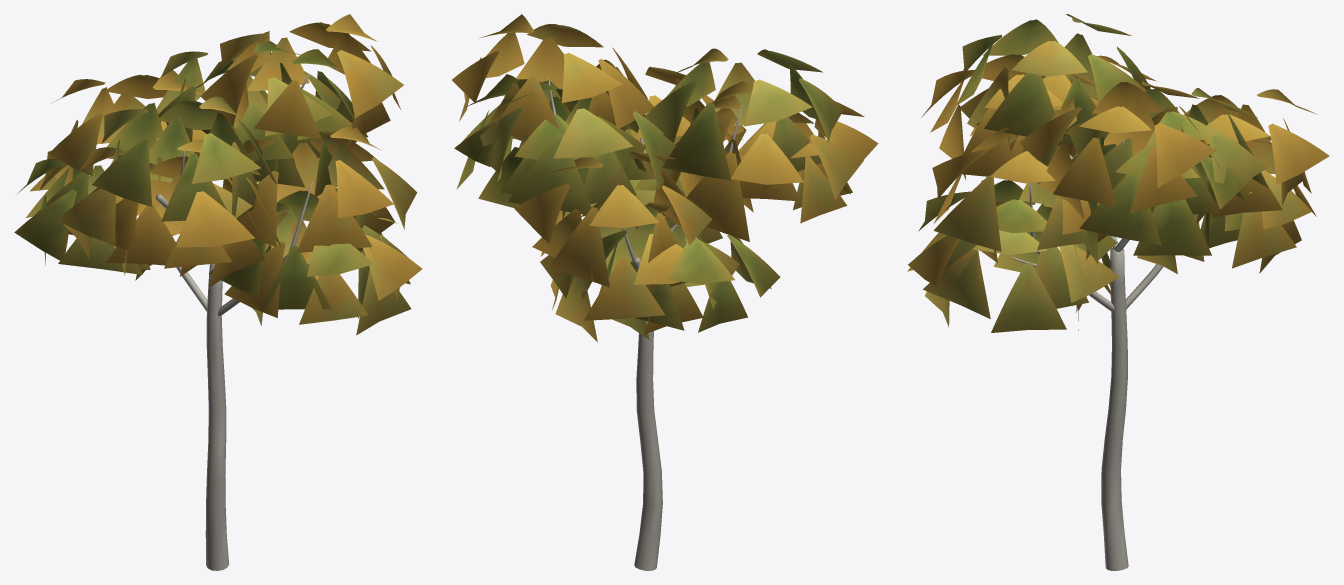
The model's file is PLN_Ginkgo_Young.fbx.
3 renders of one model, left to right at view 1: azimuth 30°, elevation 25°; view 2: azimuth 150°, elevation 25°; view 3: azimuth 270°, elevation 25°, orthographic.
Parts seen in each view (by area): view 1: PLN_Ginkgo_Young; view 2: PLN_Ginkgo_Young; view 3: PLN_Ginkgo_Young.
Boxes of the visible parts, <box> form: PLN_Ginkgo_Young: <box>14,14,422,570</box>; PLN_Ginkgo_Young: <box>452,14,878,570</box>; PLN_Ginkgo_Young: <box>907,14,1329,570</box>.
Size of the model in its own units: 1.78 by 2.45 by 1.81.
